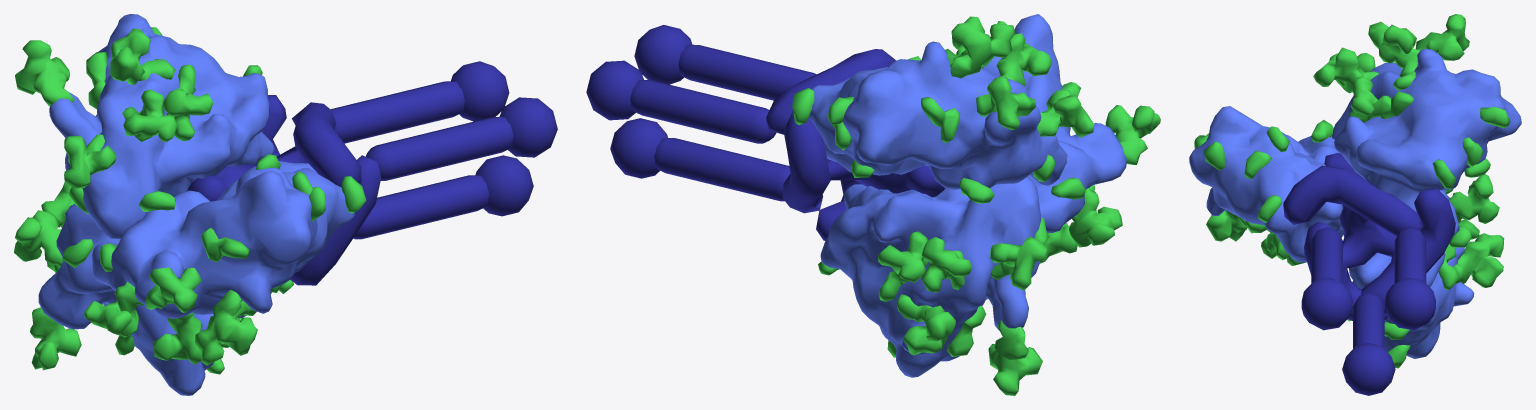
File: HIV1_ENV_4nco_0_1_1.dae
The picture shows the model from 3 angles, left to right: view 1: azimuth 30°, elevation 25°; view 2: azimuth 150°, elevation 25°; view 3: azimuth 270°, elevation 25°; orthographic projection. The views are drawn at different scales.
Parts seen in each view (by area): view 1: glyc_HIV1_ENV_4nco_ligand, gp120_HIV1_ENV_4nco_E, gp120_HIV1_ENV_4nco_A, gp41_HIV1_ENV_4nco_BEJ, gp120_HIV1_ENV_4nco_I, Capsule_4ncoTM_2, Capsule_4ncoTM_0, Capsule_4ncoTM_1, Sphere_4ncoTM_2, Sphere_4ncoTM_1, Sphere_4ncoTM_0; view 2: glyc_HIV1_ENV_4nco_ligand, gp120_HIV1_ENV_4nco_I, gp120_HIV1_ENV_4nco_A, gp41_HIV1_ENV_4nco_BEJ, gp120_HIV1_ENV_4nco_E, Capsule_4ncoTM_0, Capsule_4ncoTM_1, Capsule_4ncoTM_2, Sphere_4ncoTM_0, Sphere_4ncoTM_1, Sphere_4ncoTM_2; view 3: glyc_HIV1_ENV_4nco_ligand, gp120_HIV1_ENV_4nco_A, gp41_HIV1_ENV_4nco_BEJ, gp120_HIV1_ENV_4nco_E, gp120_HIV1_ENV_4nco_I, Sphere_4ncoTM_1, Sphere_4ncoTM_2, Sphere_4ncoTM_0, Capsule_4ncoTM_0, Capsule_4ncoTM_2, Capsule_4ncoTM_1.
Part boxes in pixels (bbox=[...]): glyc_HIV1_ENV_4nco_ligand: bbox=[14, 27, 366, 374]; gp120_HIV1_ENV_4nco_E: bbox=[92, 161, 354, 318]; gp120_HIV1_ENV_4nco_A: bbox=[49, 14, 274, 239]; gp41_HIV1_ENV_4nco_BEJ: bbox=[188, 95, 380, 285]; gp120_HIV1_ENV_4nco_I: bbox=[38, 204, 271, 395]; Capsule_4ncoTM_2: bbox=[366, 117, 513, 180]; Capsule_4ncoTM_0: bbox=[331, 81, 464, 143]; Capsule_4ncoTM_1: bbox=[353, 175, 489, 239]; Sphere_4ncoTM_2: bbox=[499, 97, 557, 157]; Sphere_4ncoTM_1: bbox=[475, 155, 533, 216]; Sphere_4ncoTM_0: bbox=[451, 61, 509, 121]; glyc_HIV1_ENV_4nco_ligand: bbox=[792, 16, 1160, 395]; gp120_HIV1_ENV_4nco_I: bbox=[820, 177, 1041, 377]; gp120_HIV1_ENV_4nco_A: bbox=[809, 41, 1067, 189]; gp41_HIV1_ENV_4nco_BEJ: bbox=[766, 49, 945, 240]; gp120_HIV1_ENV_4nco_E: bbox=[983, 14, 1126, 232]; Capsule_4ncoTM_0: bbox=[630, 80, 776, 143]; Capsule_4ncoTM_1: bbox=[654, 138, 790, 201]; Capsule_4ncoTM_2: bbox=[678, 44, 816, 100]; Sphere_4ncoTM_0: bbox=[586, 60, 643, 120]; Sphere_4ncoTM_1: bbox=[610, 118, 667, 178]; Sphere_4ncoTM_2: bbox=[634, 25, 692, 84]; glyc_HIV1_ENV_4nco_ligand: bbox=[1194, 14, 1510, 368]; gp120_HIV1_ENV_4nco_A: bbox=[1331, 48, 1521, 212]; gp41_HIV1_ENV_4nco_BEJ: bbox=[1283, 153, 1455, 320]; gp120_HIV1_ENV_4nco_E: bbox=[1189, 106, 1344, 262]; gp120_HIV1_ENV_4nco_I: bbox=[1349, 190, 1474, 358]; Sphere_4ncoTM_1: bbox=[1342, 343, 1395, 395]; Sphere_4ncoTM_2: bbox=[1301, 277, 1352, 330]; Sphere_4ncoTM_0: bbox=[1385, 277, 1435, 330]; Capsule_4ncoTM_0: bbox=[1394, 227, 1426, 283]; Capsule_4ncoTM_2: bbox=[1311, 227, 1342, 283]; Capsule_4ncoTM_1: bbox=[1353, 293, 1384, 348].
Bounding box in the file's own units: 176 × 129 × 124.
